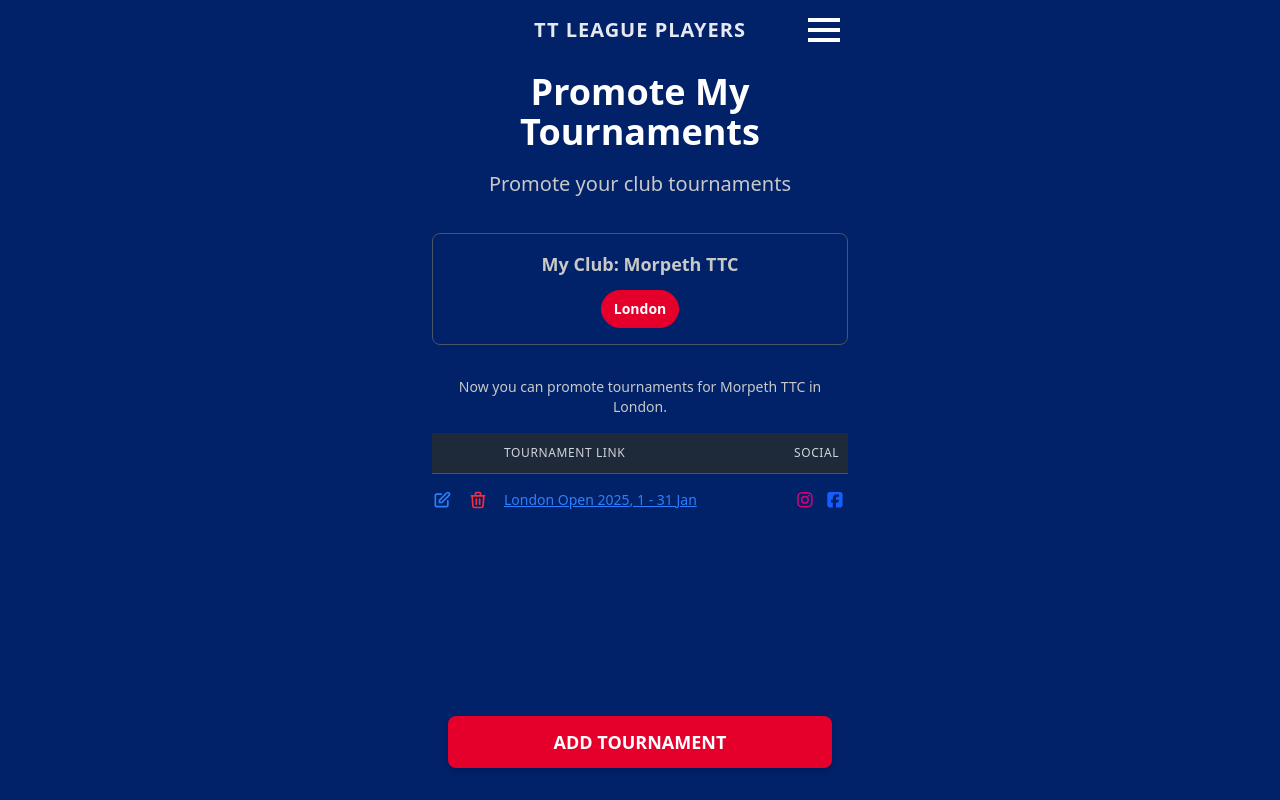
Test case: PromoteMyTournaments › tournament edit functionality › closes edit modal when cancel is clicked
Expected: the link "London Open 2025, 1 - 31 Jan" is shown, [504,490,697,508]
What coordinates should you click on to do the following:
click the button titled "Edit"
I would click on:
 (442, 500)
Its box is [432,490,452,510].
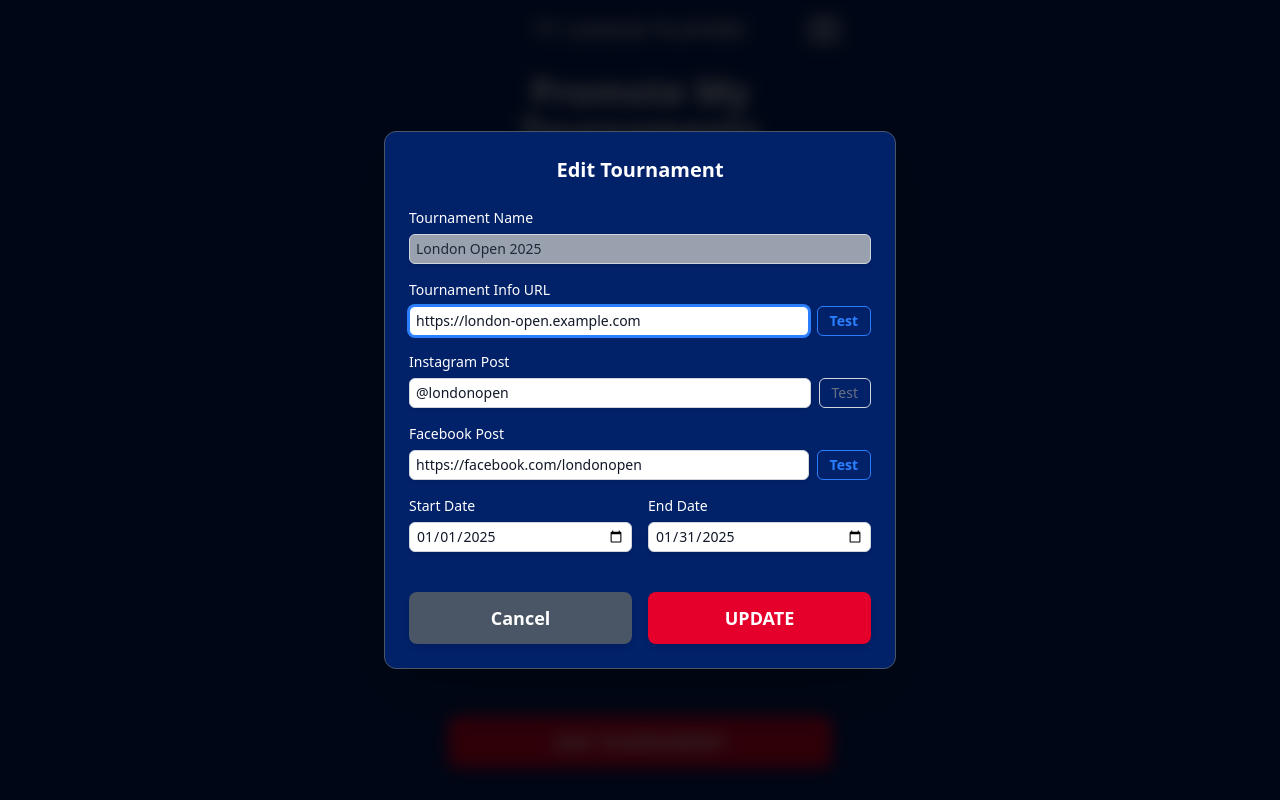
What coordinates should you click on to do the following:
click the button "Cancel"
I would click on:
 (520, 618)
Its box is [409,592,632,644].
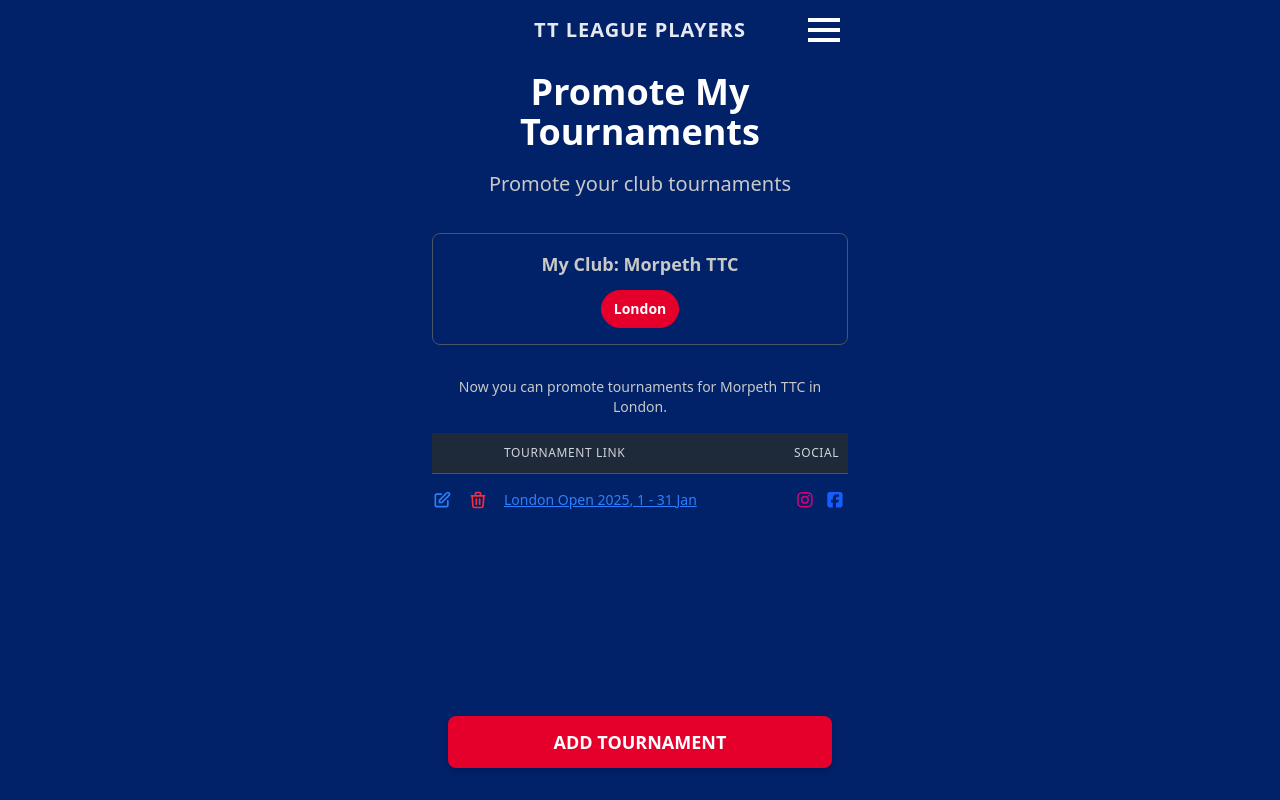
Now the heading "Edit Tournament" is gone
